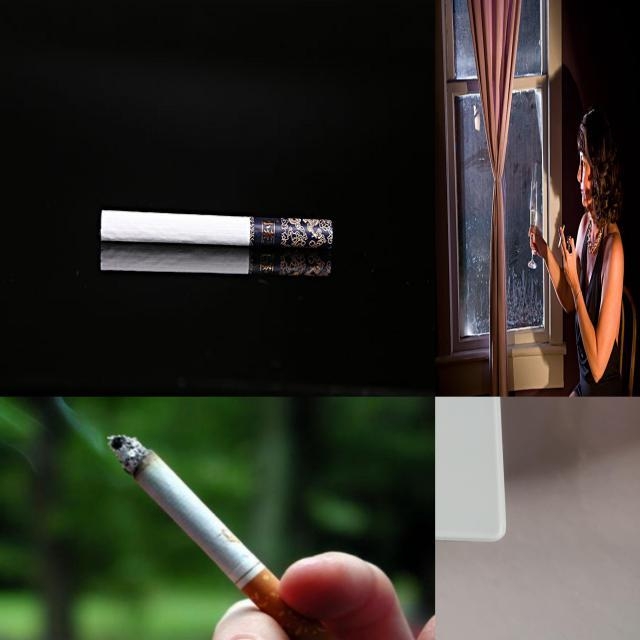smoke: (107, 433, 339, 640), (99, 210, 334, 247), (100, 246, 332, 278), (558, 224, 566, 250)
